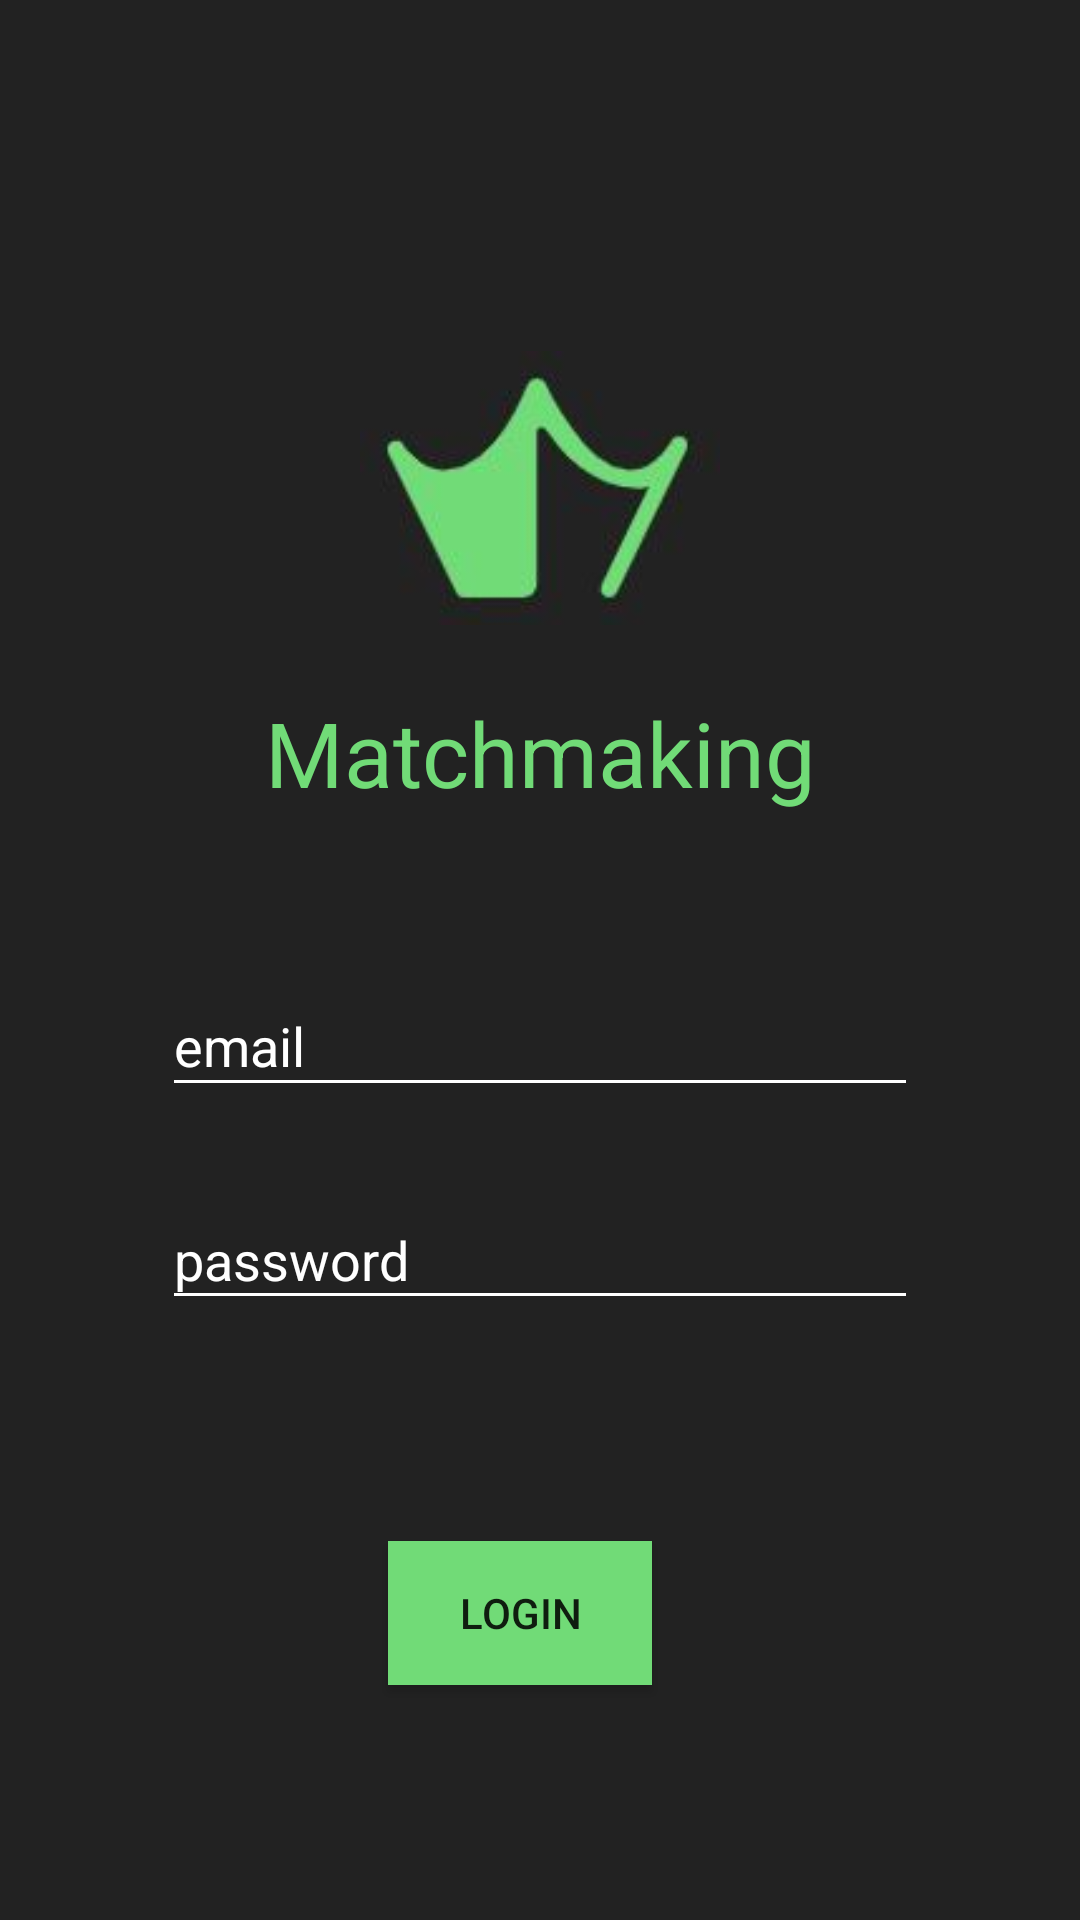

Locate icon controls on the screen. Image size 1080x1920, boxes as (x1, y1, x2, y2).
crown: (386, 374, 689, 600)
